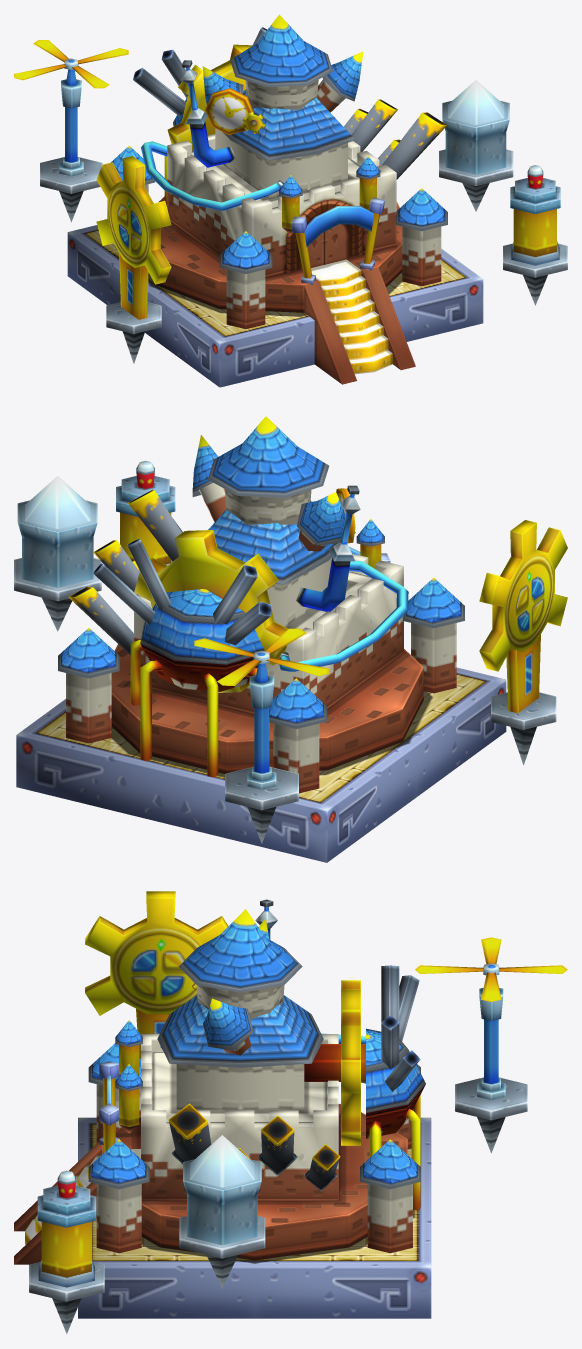
The model's file is zjd.FBX.
3 renders of one model, top to bottom at view 1: azimuth 30°, elevation 25°; view 2: azimuth 150°, elevation 25°; view 3: azimuth 270°, elevation 25°, orthographic. The views are drawn at different scales.
Visible parts, largest first — view 1: zjd, zjd_04; view 2: zjd, zjd_04; view 3: zjd, zjd_04.
Part boxes in pixels (bbox=[...]): zjd: bbox=[67, 14, 567, 387]; zjd_04: bbox=[14, 40, 128, 222]; zjd: bbox=[14, 416, 567, 862]; zjd_04: bbox=[194, 628, 329, 843]; zjd: bbox=[14, 891, 431, 1333]; zjd_04: bbox=[415, 937, 567, 1153].
Size of the model in its own units: 440 by 280 by 420.
